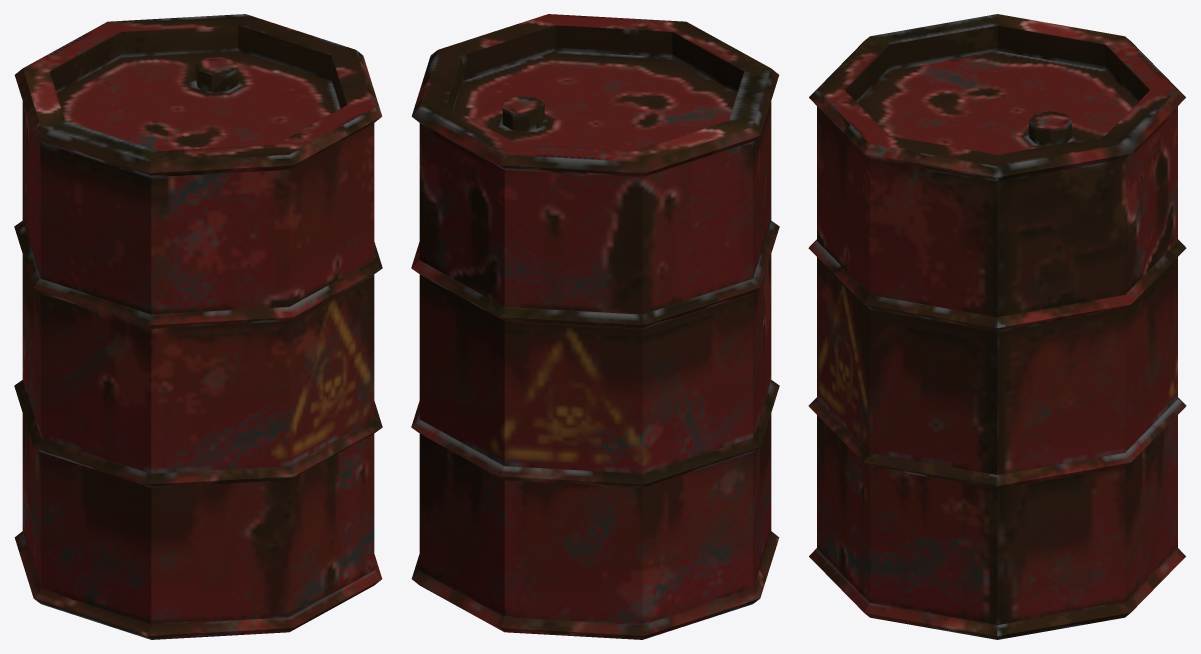
Rendered from Barrel.fbx.
3 views of the same model, side by side, from view 1: azimuth 30°, elevation 25°; view 2: azimuth 150°, elevation 25°; view 3: azimuth 270°, elevation 25° (orthographic).
Parts seen in each view (by area): view 1: Barrel; view 2: Barrel; view 3: Barrel.
Boxes of the visible parts, x1,y1,x2,y2 form: Barrel: (14, 14, 382, 639); Barrel: (411, 14, 779, 639); Barrel: (808, 14, 1186, 639).
Size of the model in its own units: 50.08 by 69.14 by 50.08.
Materials: 1 (1 with a texture image).
